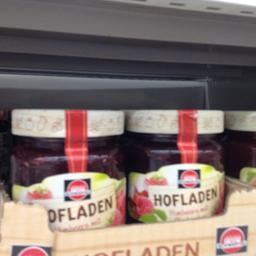jam: (7, 106, 127, 230), (126, 108, 225, 222)
